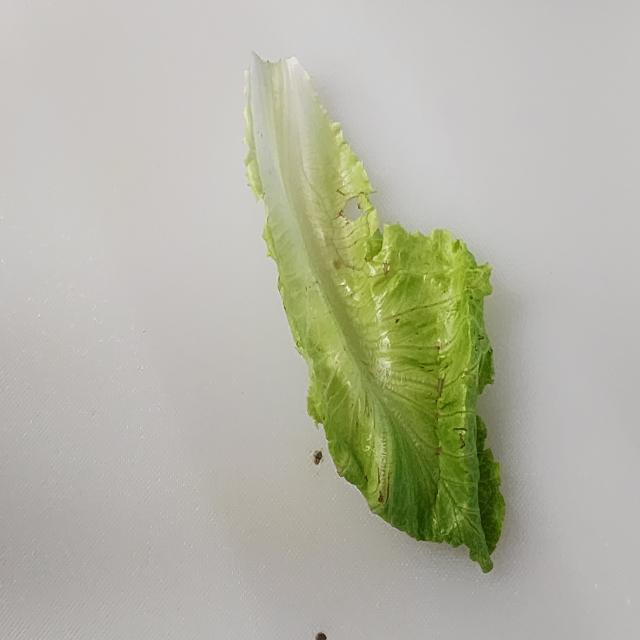lettuce: (241, 50, 506, 573)
